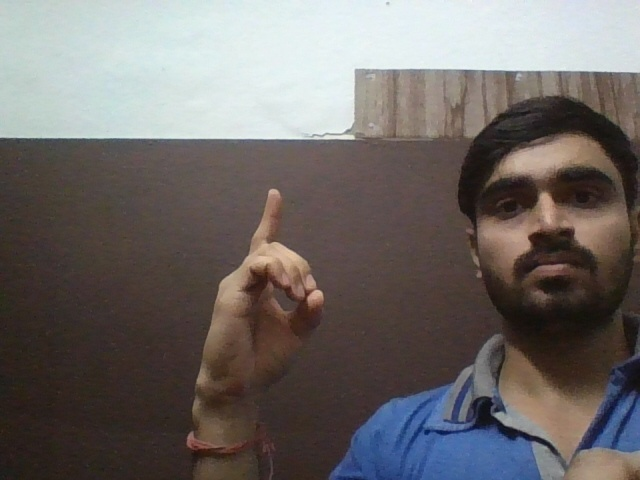D: (187, 184, 334, 386)
